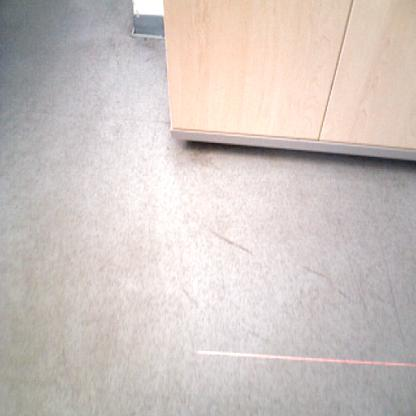mark: (210, 230, 250, 253), (180, 285, 200, 310), (302, 264, 327, 279), (336, 287, 350, 301), (143, 54, 152, 66)
